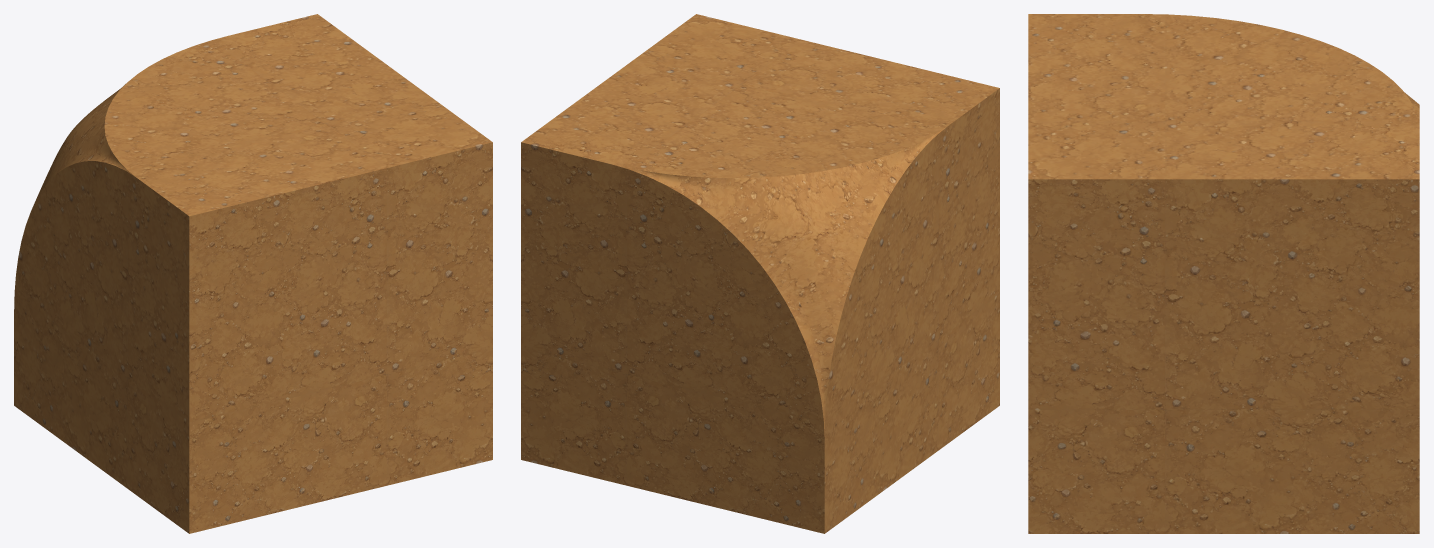
The picture shows the model from 3 angles, left to right: view 1: azimuth 30°, elevation 25°; view 2: azimuth 150°, elevation 25°; view 3: azimuth 270°, elevation 25°; orthographic projection. The views are drawn at different scales.
Visible parts, largest first — view 1: 5.001; view 2: 5.001; view 3: 5.001.
Part boxes in pixels (x1=…): 5.001: x1=14, y1=14, x2=492, y2=533; 5.001: x1=521, y1=14, x2=999, y2=533; 5.001: x1=1028, y1=14, x2=1419, y2=533.
Bounding box in the file's own units: 100 × 100 × 100.
Materials: 1 (1 with a texture image).
